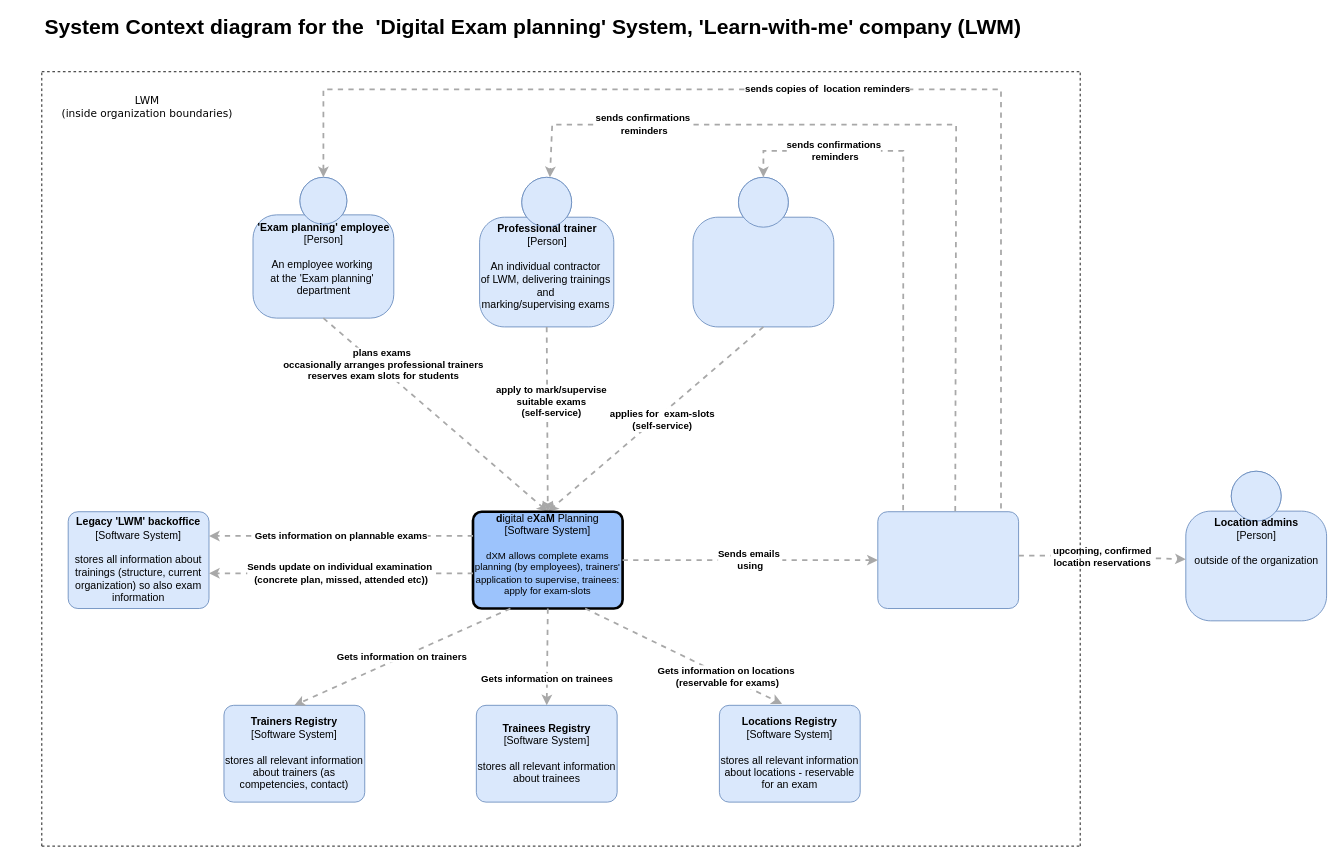
The diagram is 1342 pixels wide and 862 high, and some of its shapes have lost their labels. Here are the shapes that lost their labels. From the top down, the centre of each, then its label:
At pixel 763 251: "Trainee [Person] A client of LWM, attending trainnings and examinations".
At pixel 948 560: "e-mail System [Software System] the internal Exchange system".
